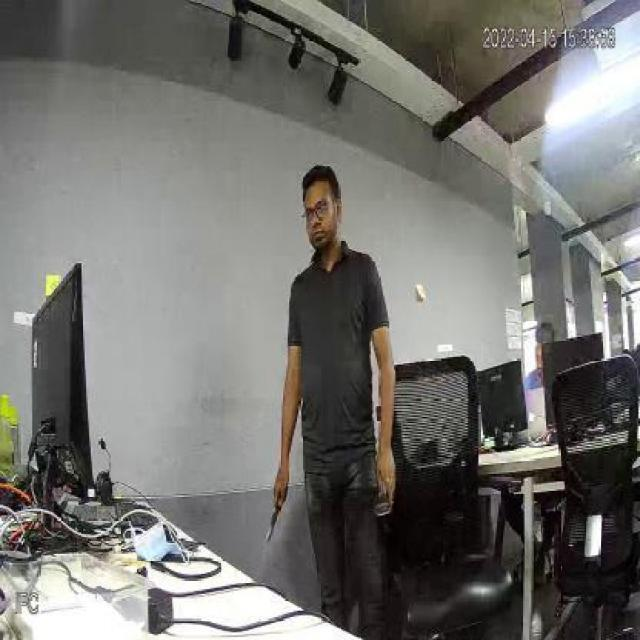-: (266, 493, 285, 556)
